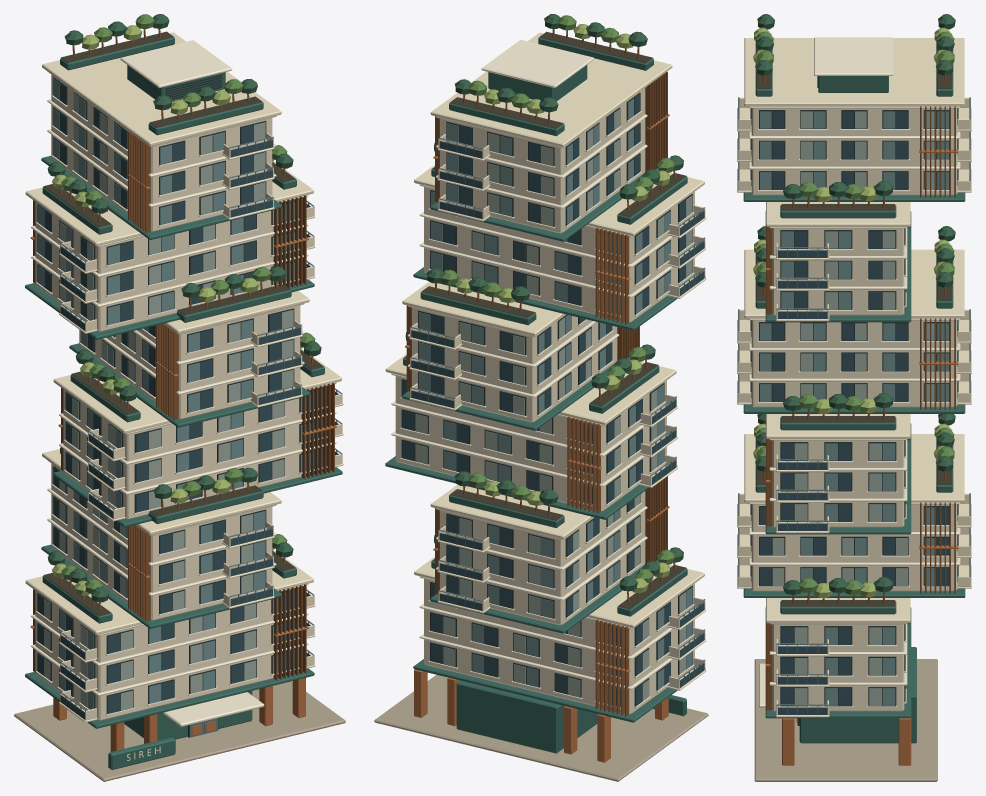
3 views of the same model, side by side, from view 1: azimuth 30°, elevation 25°; view 2: azimuth 150°, elevation 25°; view 3: azimuth 270°, elevation 25° (orthographic).
Visible parts, largest first — view 1: Stacked apartment pavilions, Apartment casements, Sky terrace planting, Vertical solar screens, Arrival court, End loggias, Roof pavilion; view 2: Stacked apartment pavilions, Apartment casements, Sky terrace planting, Arrival court, Vertical solar screens, End loggias, Roof pavilion; view 3: Stacked apartment pavilions, Apartment casements, Sky terrace planting, Arrival court, End loggias, Vertical solar screens, Roof pavilion.
Boxes of the visible parts, x1,y1,x2,y2 form: Stacked apartment pavilions: (25,32,342,728); Apartment casements: (35,77,327,715); Sky terrace planting: (42,14,324,623); Vertical solar screens: (30,131,336,680); Arrival court: (14,678,345,781); End loggias: (59,133,343,722); Roof pavilion: (120,40,232,101); Stacked apartment pavilions: (385,32,705,722); Apartment casements: (400,92,694,709); Sky terrace planting: (403,14,687,616); Arrival court: (374,669,708,781); Vertical solar screens: (405,72,669,716); End loggias: (409,134,706,690); Roof pavilion: (481,39,593,101); Stacked apartment pavilions: (743,38,965,718); Apartment casements: (749,108,959,707); Sky terrace planting: (753,14,955,614); Arrival court: (754,647,937,781); End loggias: (737,97,971,717); Vertical solar screens: (766,106,958,710); Roof pavilion: (814,37,893,92).
Bounding box in the file's own units: 24.89 × 61.29 × 19.21.
